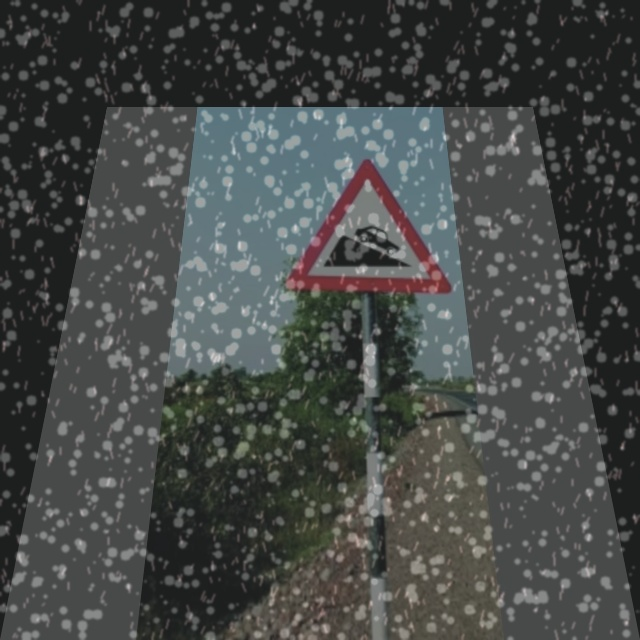Steep_Descent: (290, 159, 452, 299)
